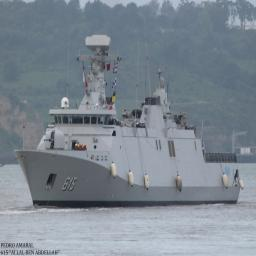Fragata: (13, 34, 246, 213)
